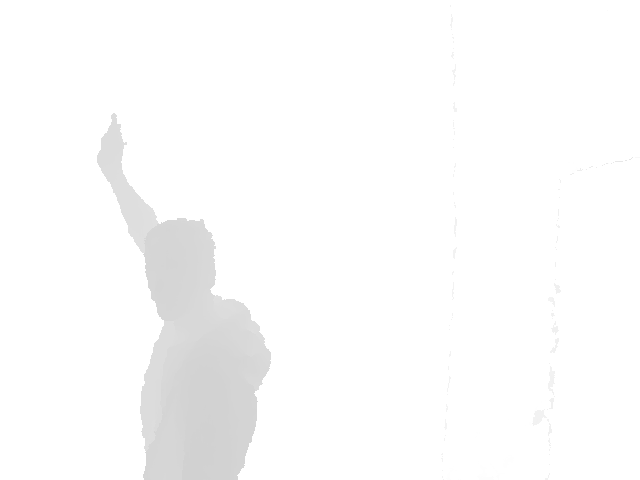hand: (95, 112, 127, 171)
head: (143, 217, 216, 321)
person: (95, 112, 272, 480)
